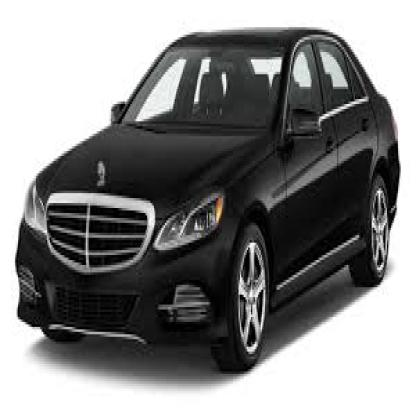car: (14, 26, 409, 361)
